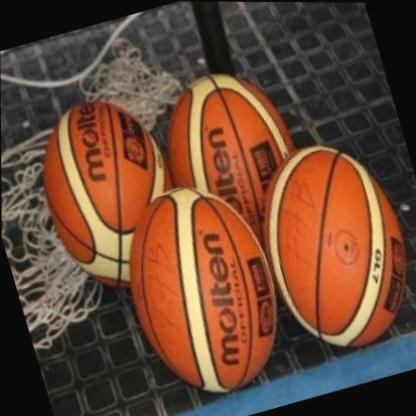basketball: (101, 167, 301, 414), (241, 122, 416, 366), (16, 78, 201, 304), (149, 53, 322, 260)
